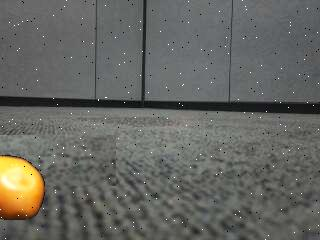Potato: (0, 152, 45, 222)
